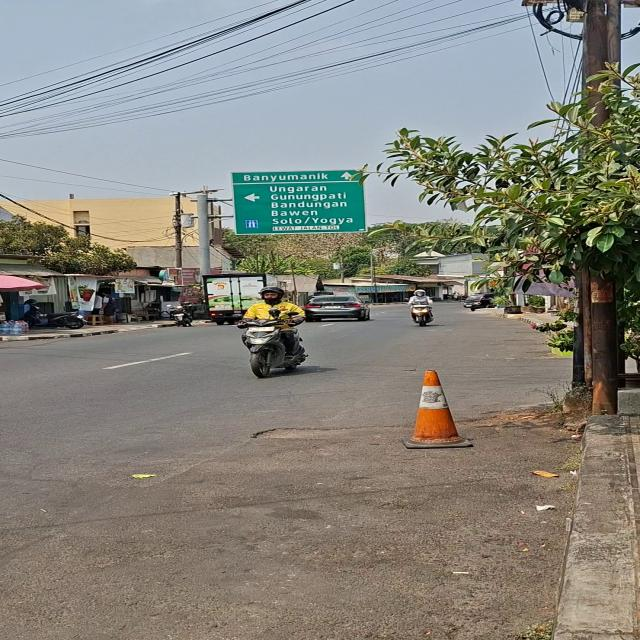WithHelmet: (236, 286, 307, 360), (406, 289, 435, 322)
